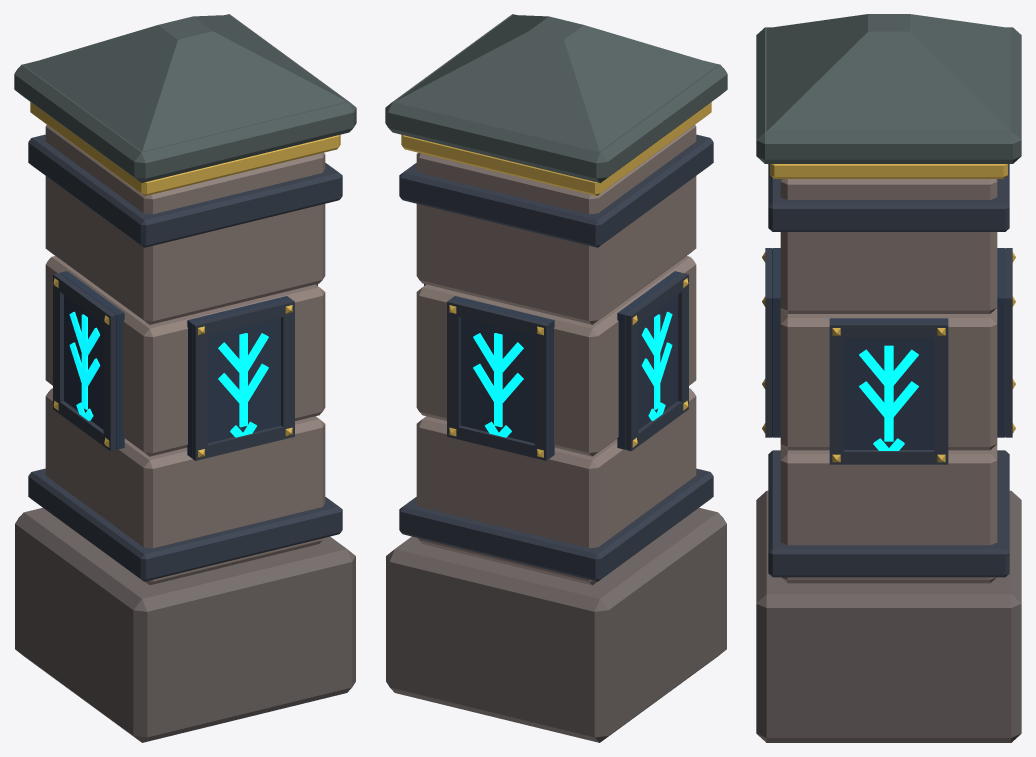
The model's file is stone_wall_post.glb.
The picture shows the model from 3 angles, left to right: view 1: azimuth 30°, elevation 25°; view 2: azimuth 150°, elevation 25°; view 3: azimuth 270°, elevation 25°; orthographic projection. The views are drawn at different scales.
Parts seen in each view (by area): view 1: body, glow_runes; view 2: body, glow_runes; view 3: body, glow_runes.
Part boxes in pixels (x1,y1,x2,y2): body: [14, 14, 356, 742]; glow_runes: [69, 311, 268, 437]; body: [385, 14, 727, 742]; glow_runes: [473, 311, 672, 437]; body: [756, 14, 1021, 742]; glow_runes: [859, 345, 918, 450].
Size of the model in its own units: 0.76 by 2.11 by 0.76.
